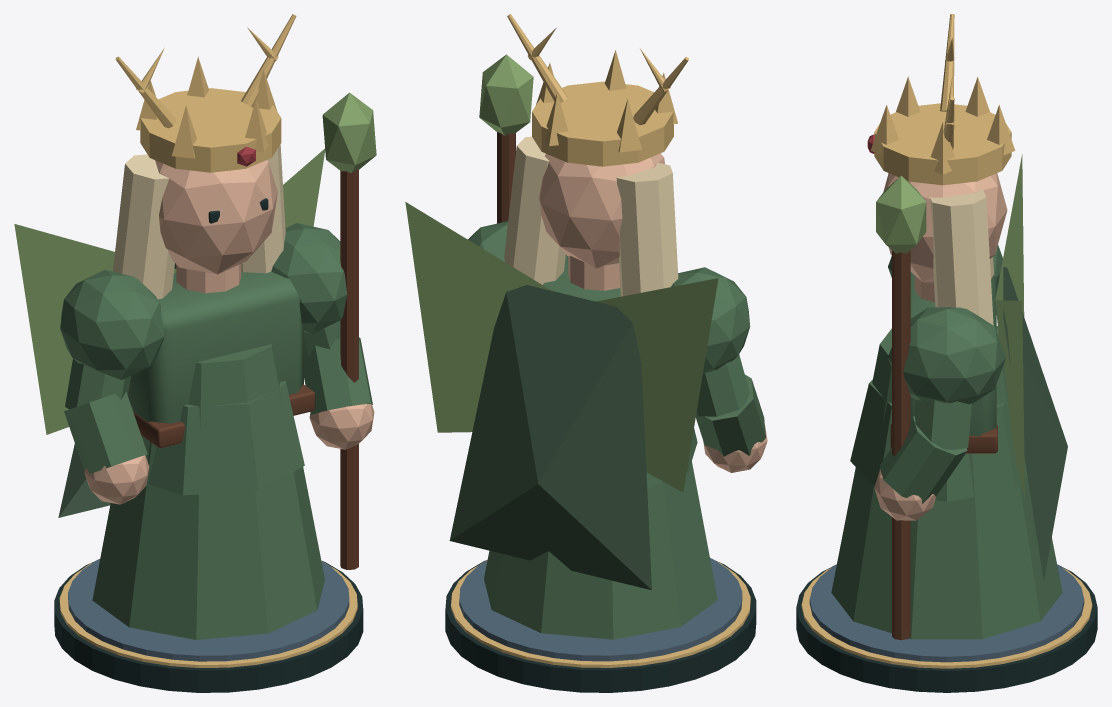
The model's file is fae.glb.
3 renders of one model, left to right at view 1: azimuth 30°, elevation 25°; view 2: azimuth 150°, elevation 25°; view 3: azimuth 270°, elevation 25°, orthographic. The views are drawn at different scales.
Visible parts, largest first — view 1: Gown, Torso, Coat, Head, PedestalTop, Petal, LeftShoulder, Pedestal, CrownBand, Hair, Staff, RightShoulder (+17 smaller); view 2: Cape, Gown, Petal.001, Petal, PedestalTop, Pedestal, CrownBand, Head, Hair, Hair.001, LeftShoulder, StaffCrystal (+12 smaller); view 3: Gown, Pedestal, PedestalTop, RightShoulder, CrownBand, Hair.001, Cape, Coat, Staff, RightForearm, Head, Petal.001 (+13 smaller).
Boxes of the visible parts, left/top/right/bottom form: Gown: left=92, top=344, right=324, bottom=639; Torso: left=128, top=271, right=303, bottom=423; Coat: left=141, top=381, right=304, bottom=495; Head: left=155, top=160, right=277, bottom=274; PedestalTop: left=68, top=559, right=349, bottom=661; Petal: left=14, top=224, right=176, bottom=434; LeftShoulder: left=60, top=269, right=164, bottom=379; Pedestal: left=54, top=561, right=363, bottom=692; CrownBand: left=140, top=88, right=281, bottom=172; Hair: left=113, top=154, right=174, bottom=299; Staff: left=340, top=169, right=358, bottom=569; RightShoulder: left=271, top=223, right=347, bottom=333; Cape: left=449, top=285, right=651, bottom=590; Gown: left=484, top=452, right=717, bottom=639; Petal.001: left=405, top=202, right=551, bottom=432; Petal: left=596, top=278, right=718, bottom=492; PedestalTop: left=459, top=558, right=742, bottom=661; Pedestal: left=445, top=560, right=756, bottom=692; CrownBand: left=532, top=81, right=673, bottom=166; Head: left=539, top=153, right=664, bottom=268; Hair: left=616, top=162, right=678, bottom=296; Hair.001: left=504, top=136, right=565, bottom=284; LeftShoulder: left=671, top=267, right=750, bottom=373; StaffCrystal: left=479, top=54, right=533, bottom=135; Gown: left=831, top=326, right=1062, bottom=639; Pedestal: left=796, top=564, right=1097, bottom=692; PedestalTop: left=809, top=565, right=1084, bottom=662; RightShoulder: left=888, top=307, right=1005, bottom=404; CrownBand: left=874, top=103, right=1011, bottom=185; Hair.001: left=930, top=189, right=993, bottom=325; Cape: left=1003, top=267, right=1067, bottom=581; Coat: left=850, top=379, right=1027, bottom=501; Staff: left=892, top=250, right=910, bottom=640; RightForearm: left=879, top=416, right=967, bottom=503; Head: left=883, top=173, right=1007, bottom=282; Petal.001: left=995, top=300, right=1024, bottom=498.
Bounding box in the file's own units: 0.169 × 0.3061 × 0.1456.
